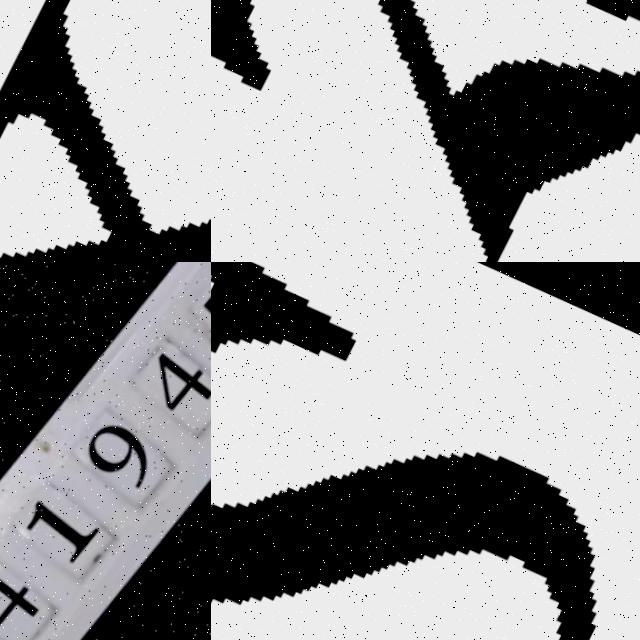1: (0, 470, 124, 592)
4: (111, 327, 211, 448), (0, 541, 68, 640)
5: (170, 262, 211, 377)
9: (56, 399, 185, 517)
S: (211, 262, 640, 640)
X: (0, 0, 211, 262)
Z: (211, 0, 640, 262)
